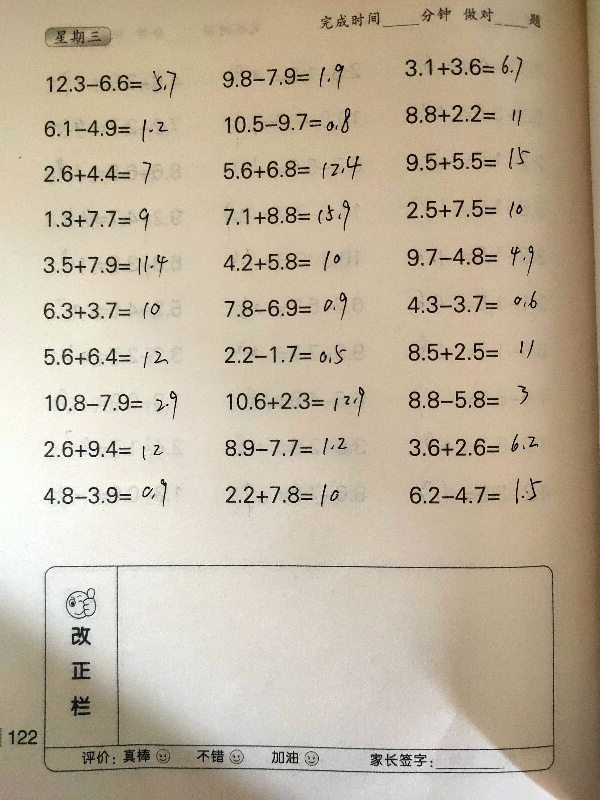equation: (400, 468, 556, 527), (36, 468, 176, 513), (215, 196, 365, 236), (219, 104, 360, 145), (31, 149, 167, 191), (39, 427, 177, 467), (404, 433, 557, 469), (396, 380, 544, 417), (400, 239, 543, 277), (403, 97, 532, 139), (223, 384, 369, 421), (217, 148, 369, 183), (43, 387, 182, 423), (222, 289, 359, 325), (219, 62, 364, 96), (393, 331, 537, 365), (43, 67, 181, 102), (399, 288, 553, 319), (403, 147, 543, 180), (401, 192, 539, 225), (393, 51, 535, 83), (222, 481, 368, 511), (37, 107, 172, 139), (220, 246, 363, 275), (221, 342, 368, 369), (40, 251, 172, 281), (221, 434, 369, 459), (40, 344, 172, 370), (42, 205, 153, 235), (40, 299, 164, 323)
